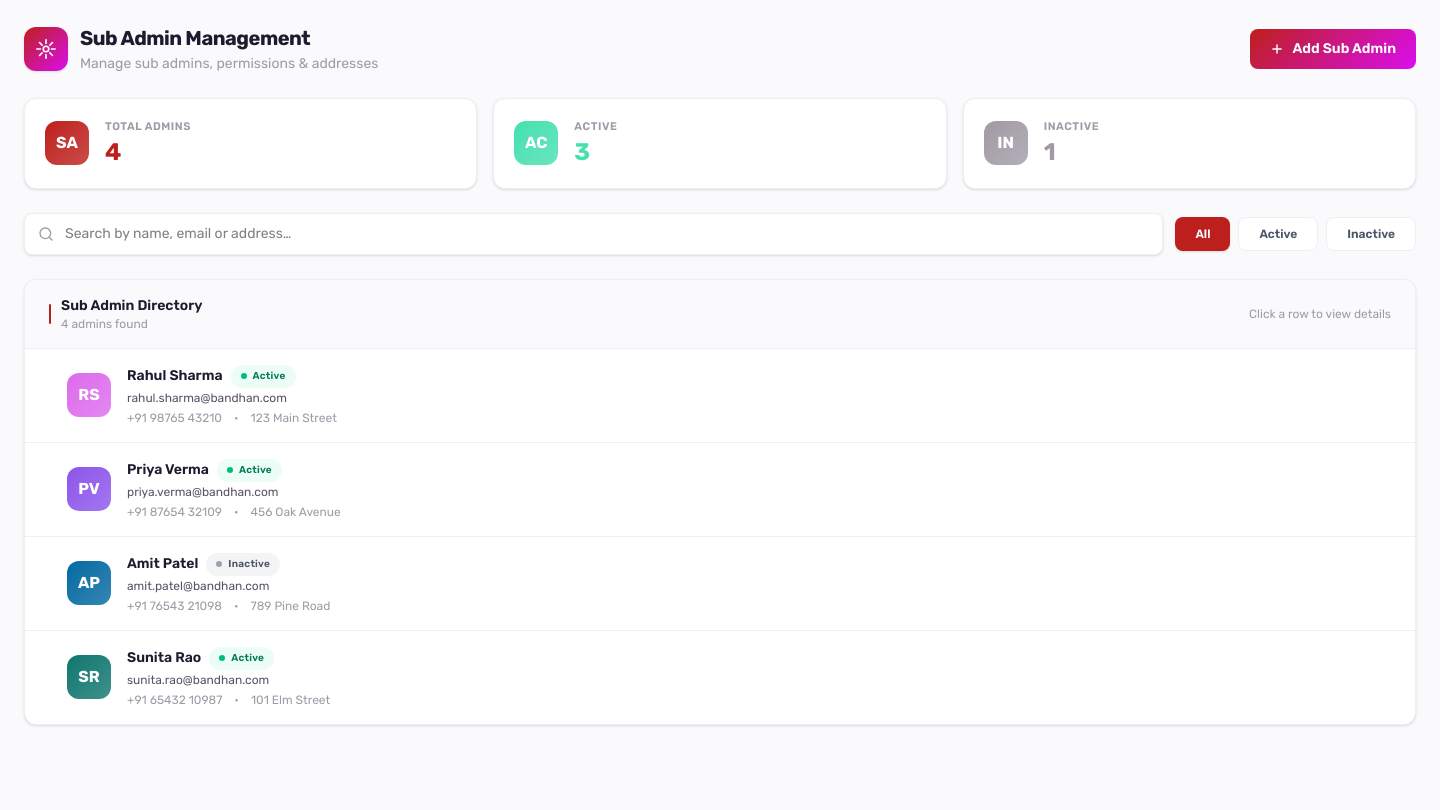
Test case: SubAdminManagement Component › should open details modal when clicking a sub-admin row
Note: Click on Priya's row
Click the text "Priya Verma" at (720, 490), box [25,442,1415,536]
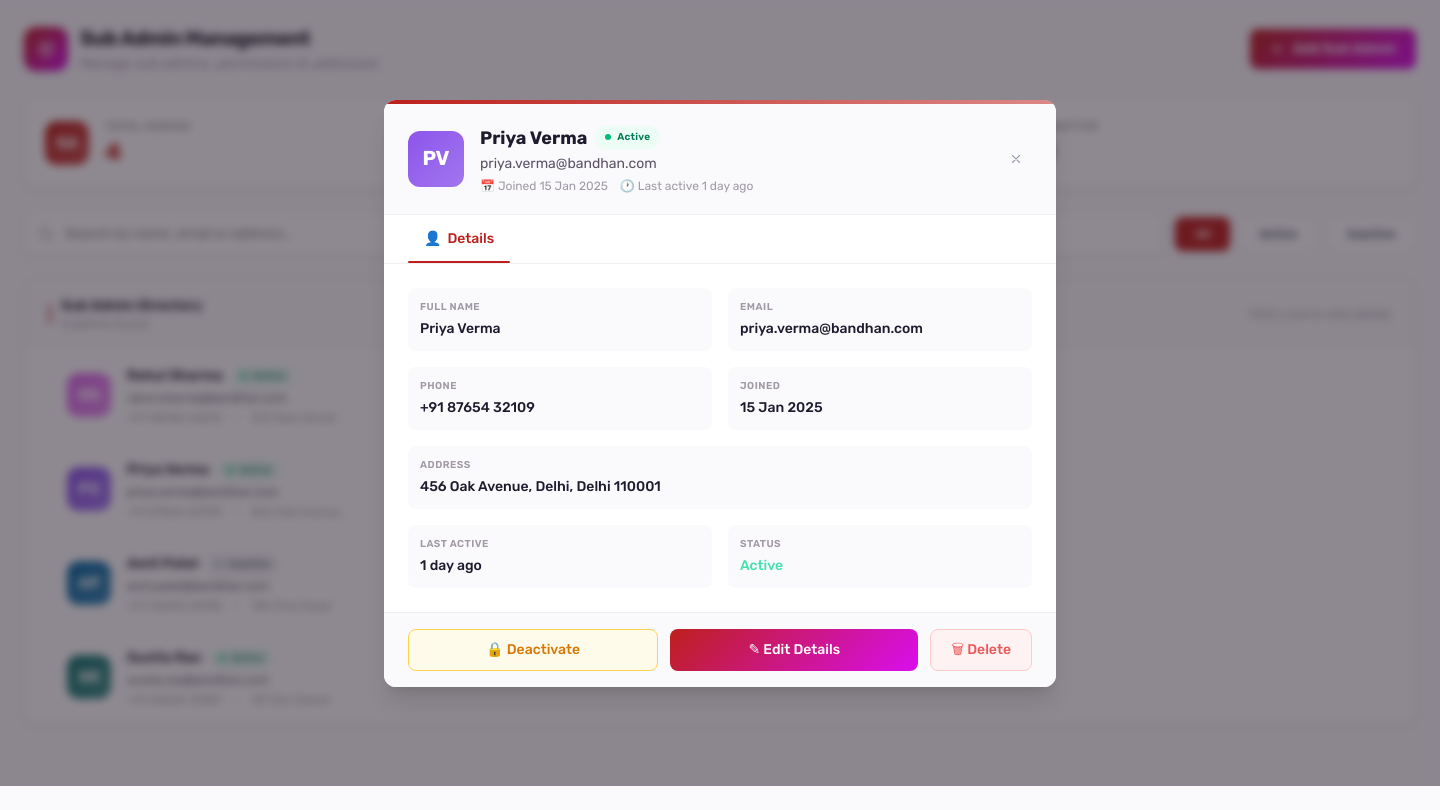
Expected: the text "📅 Joined 15 Jan 2025" is shown, [480,178,608,194]
